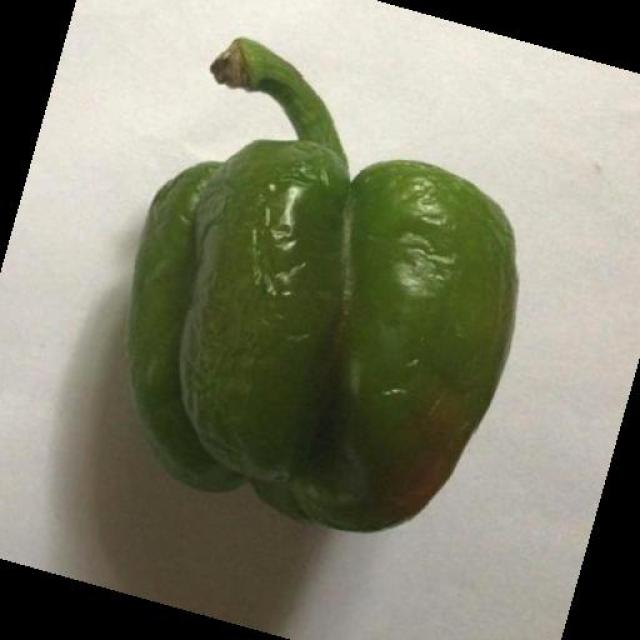Stale_Capsicum: (128, 73, 514, 534)
